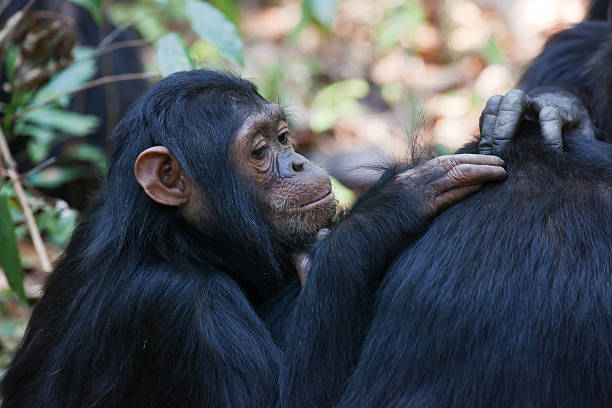chimpanzee: (85, 53, 366, 277)
